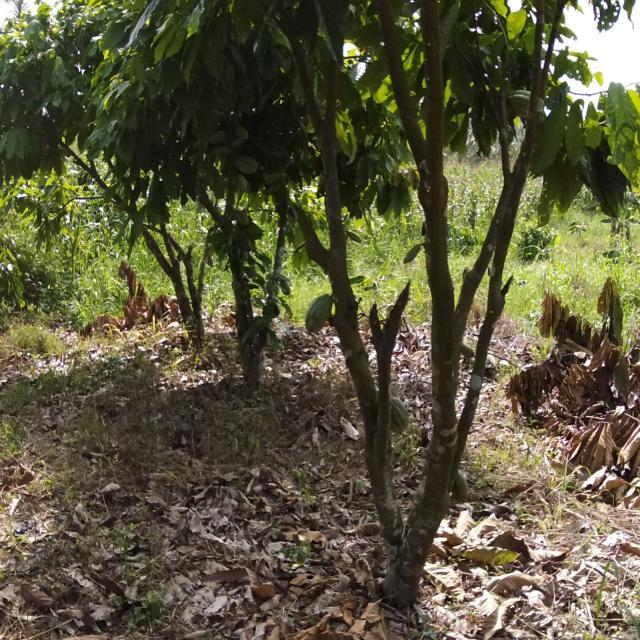Immature: (402, 233, 426, 281)
Mature_Unripe: (304, 289, 346, 341), (445, 466, 477, 514), (233, 152, 263, 194), (383, 390, 410, 436)
